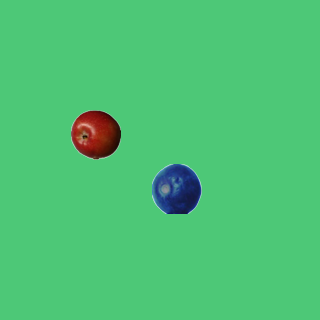Apple Braeburn: (70, 109, 120, 159)
Huckleberry: (151, 163, 201, 213)
